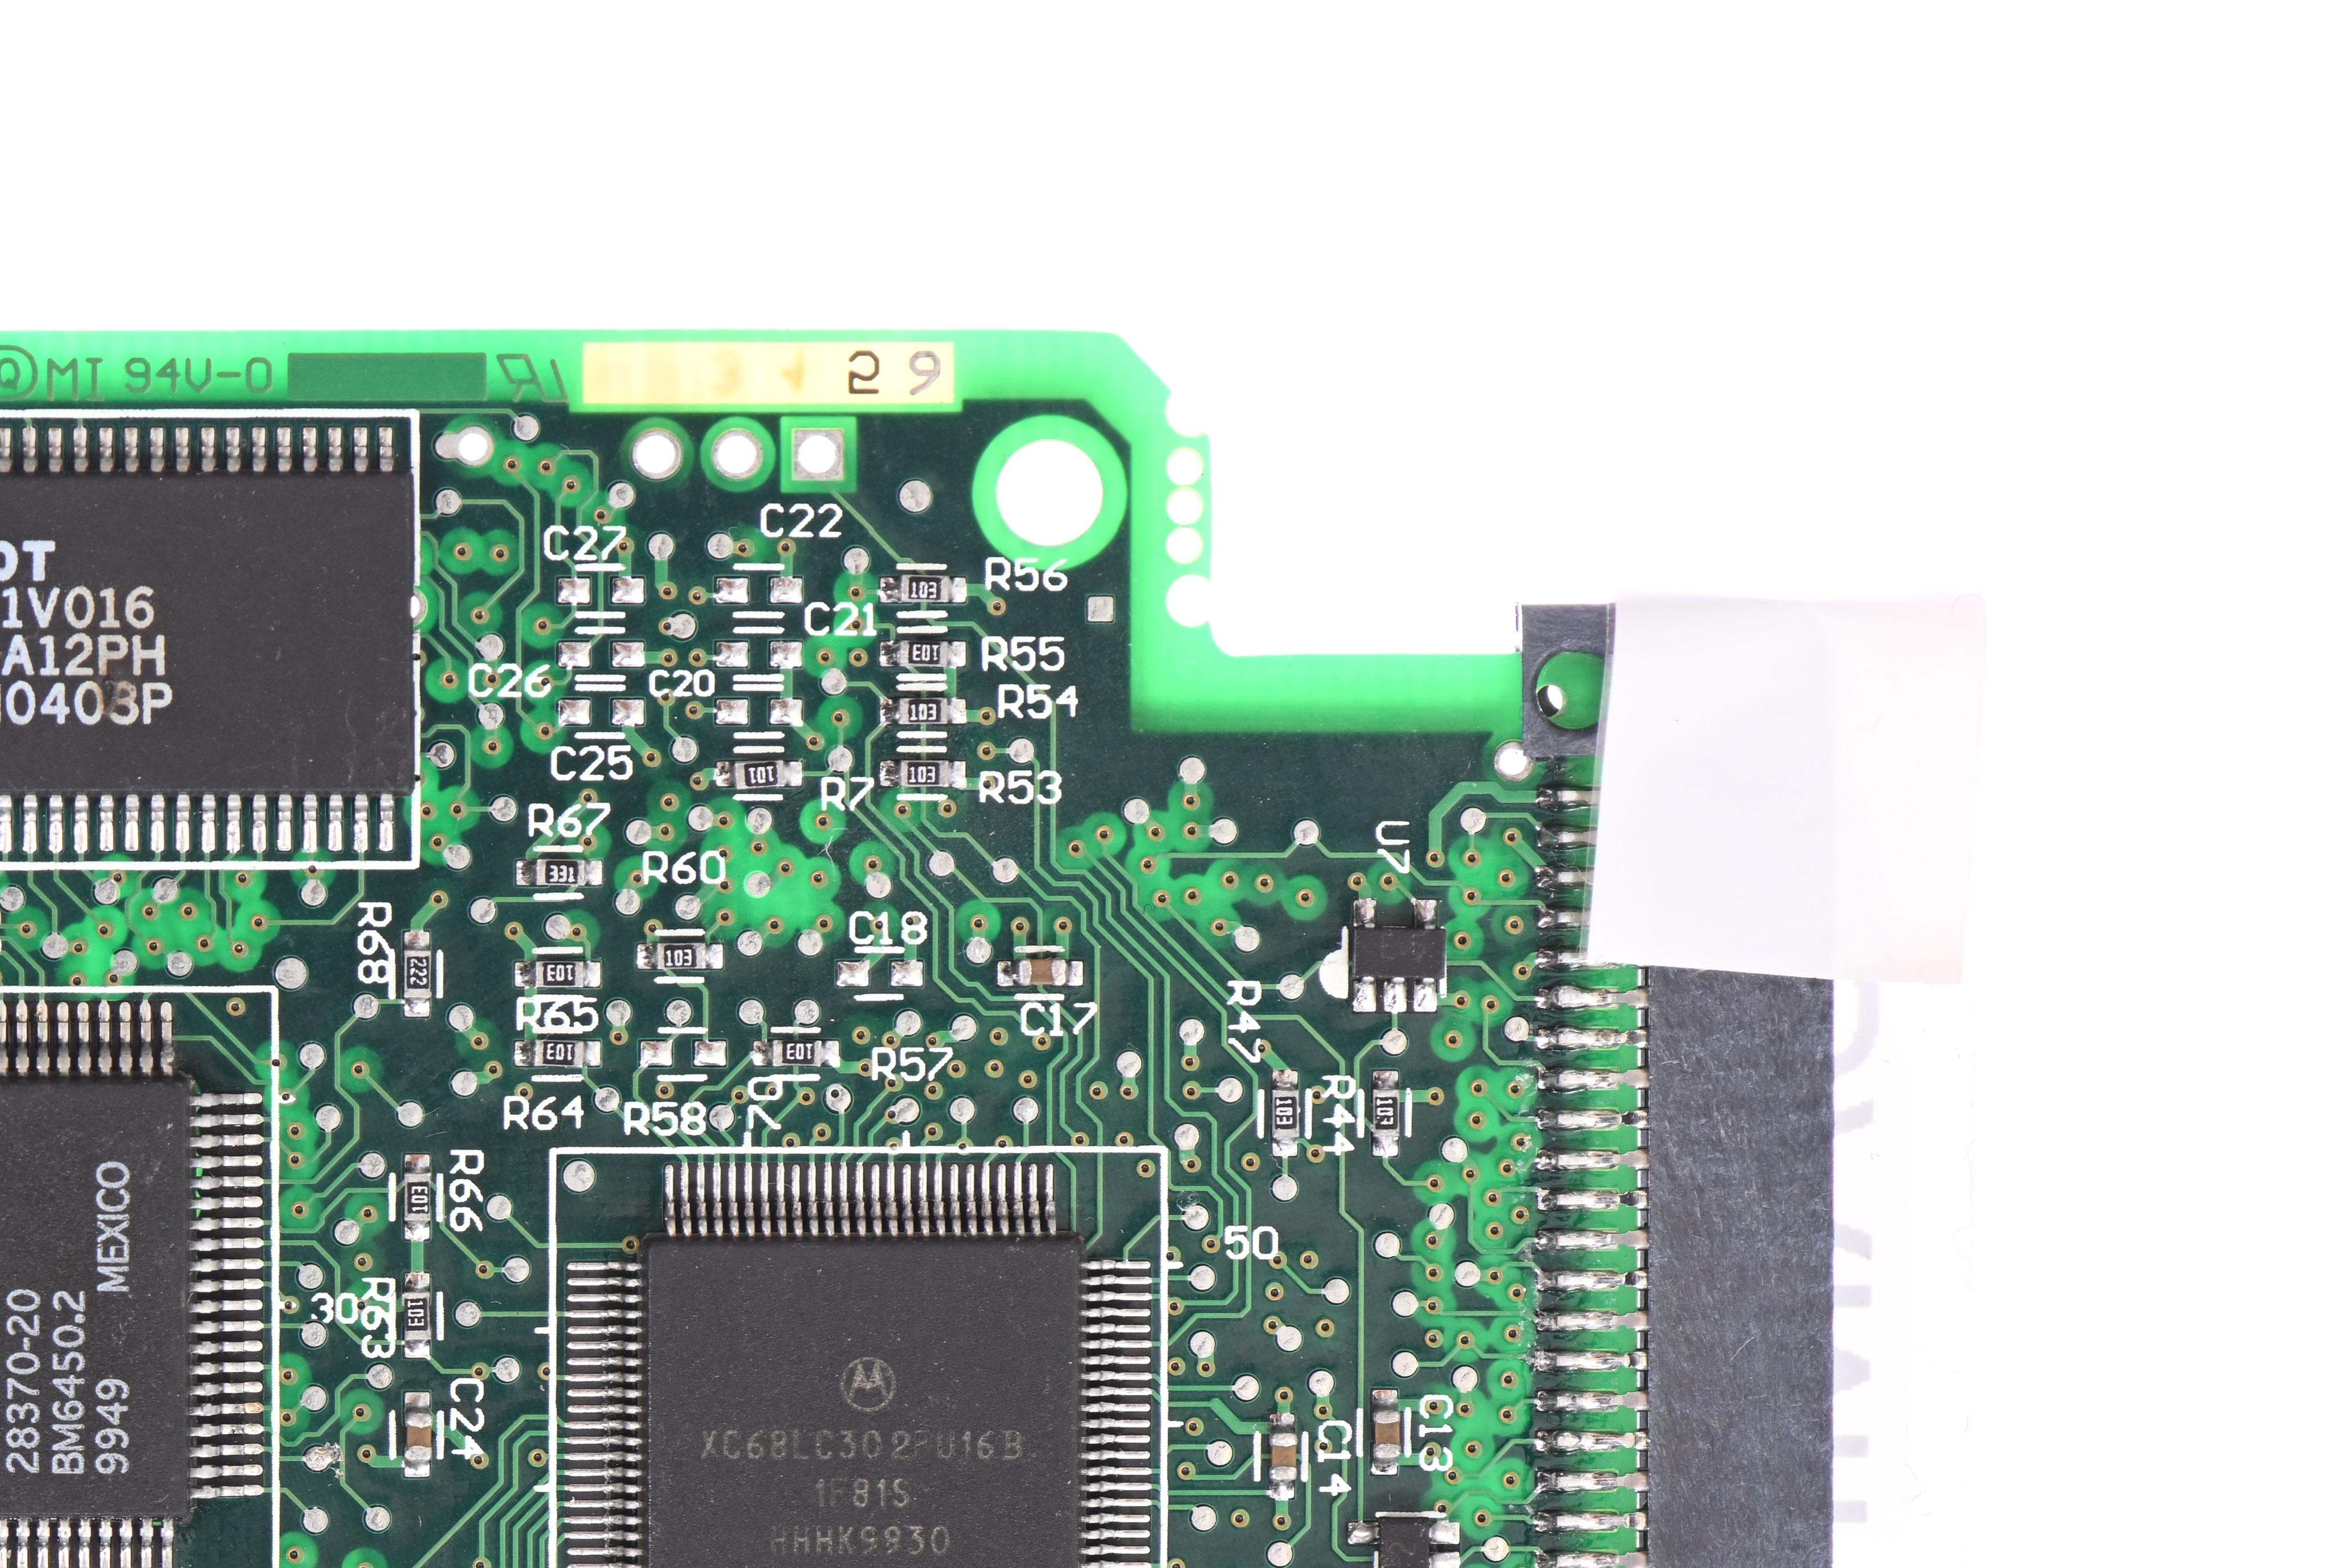ICs: (642, 1237, 1078, 1568), (0, 469, 415, 795), (0, 1073, 194, 1521), (1347, 924, 1445, 980), (1376, 1514, 1431, 1568)
capacitors: (401, 1409, 434, 1463), (1370, 1407, 1402, 1461), (1267, 1430, 1298, 1482), (1017, 955, 1067, 987)
resistors: (730, 756, 789, 791), (534, 857, 590, 889), (532, 959, 586, 991), (653, 940, 707, 971), (896, 637, 950, 669), (1370, 1087, 1402, 1139), (532, 1036, 584, 1067), (401, 947, 432, 999), (1269, 1087, 1300, 1139), (898, 758, 950, 789), (898, 572, 952, 602), (402, 1169, 432, 1223), (768, 1038, 823, 1067), (896, 695, 950, 725), (401, 1290, 431, 1342)
